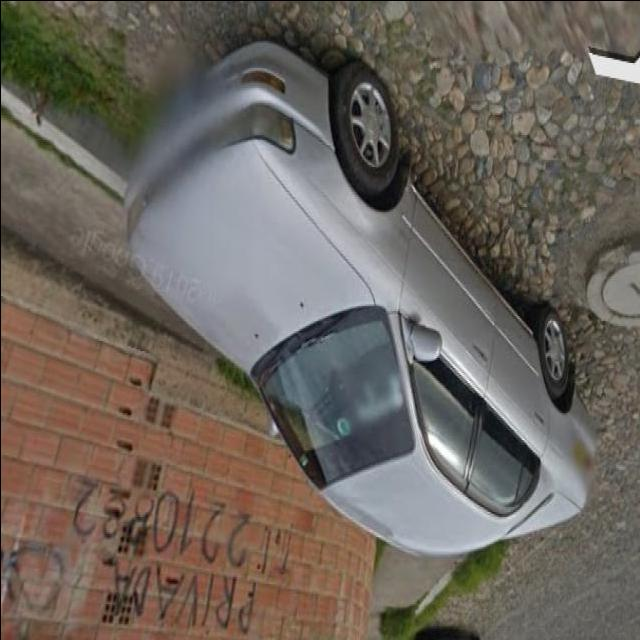car: (121, 22, 609, 550)
